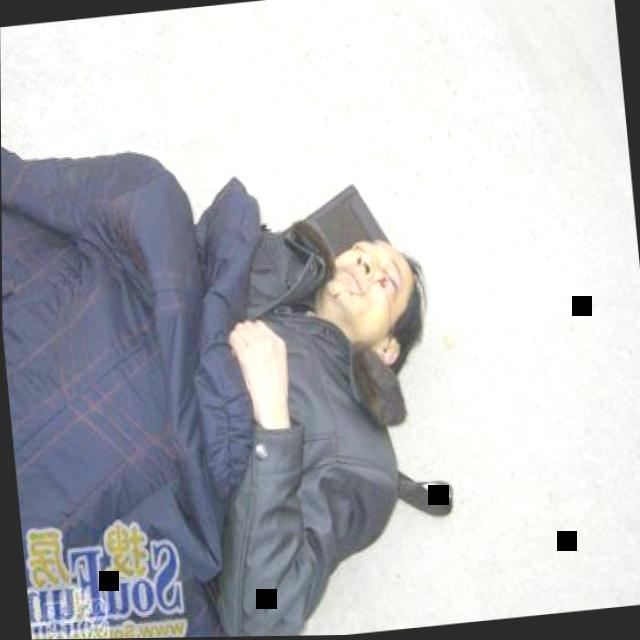Fall-Detected: (1, 87, 469, 640)
